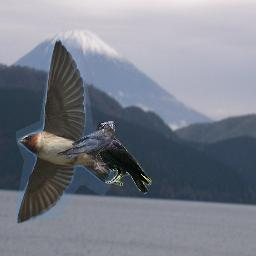Crow: (96, 122, 152, 194), (57, 121, 115, 173)
Swallow: (16, 39, 114, 224)
